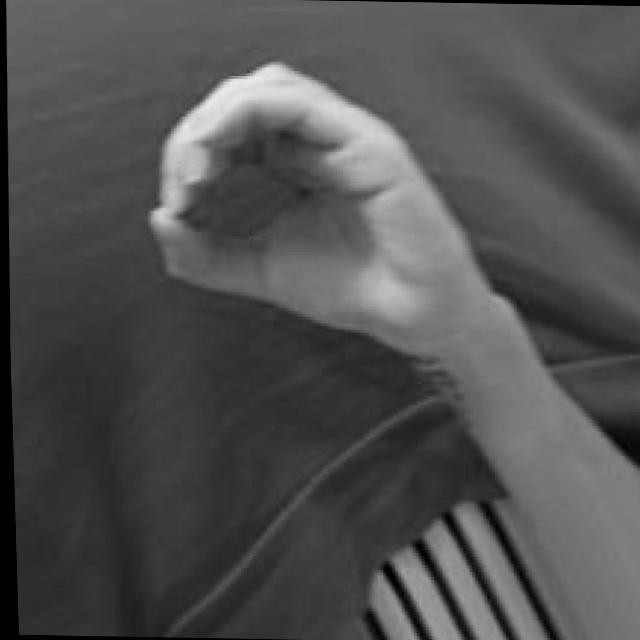O: (138, 49, 515, 410)
